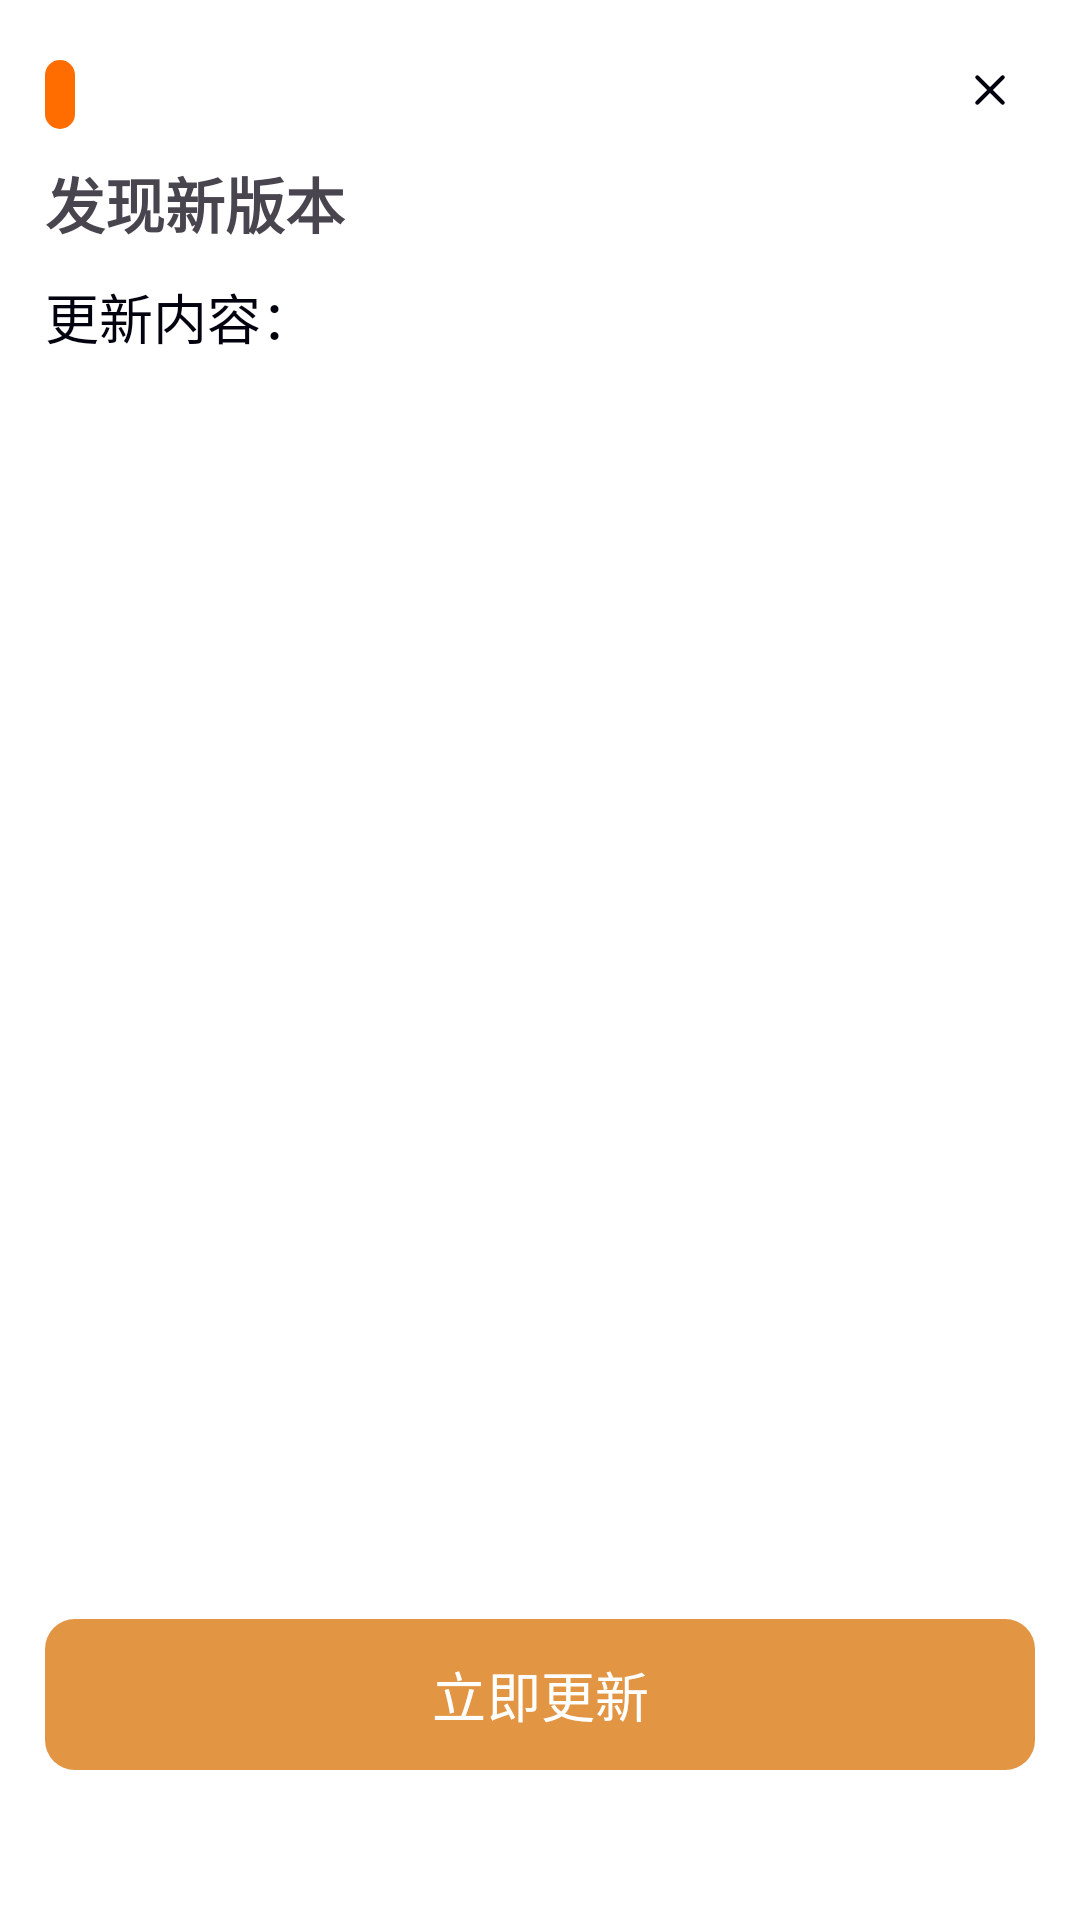

Icons on this 1080px×1920px Android screen, each with its box as (x1, y1, x2, y2):
linear close: (975, 75, 1005, 105)
